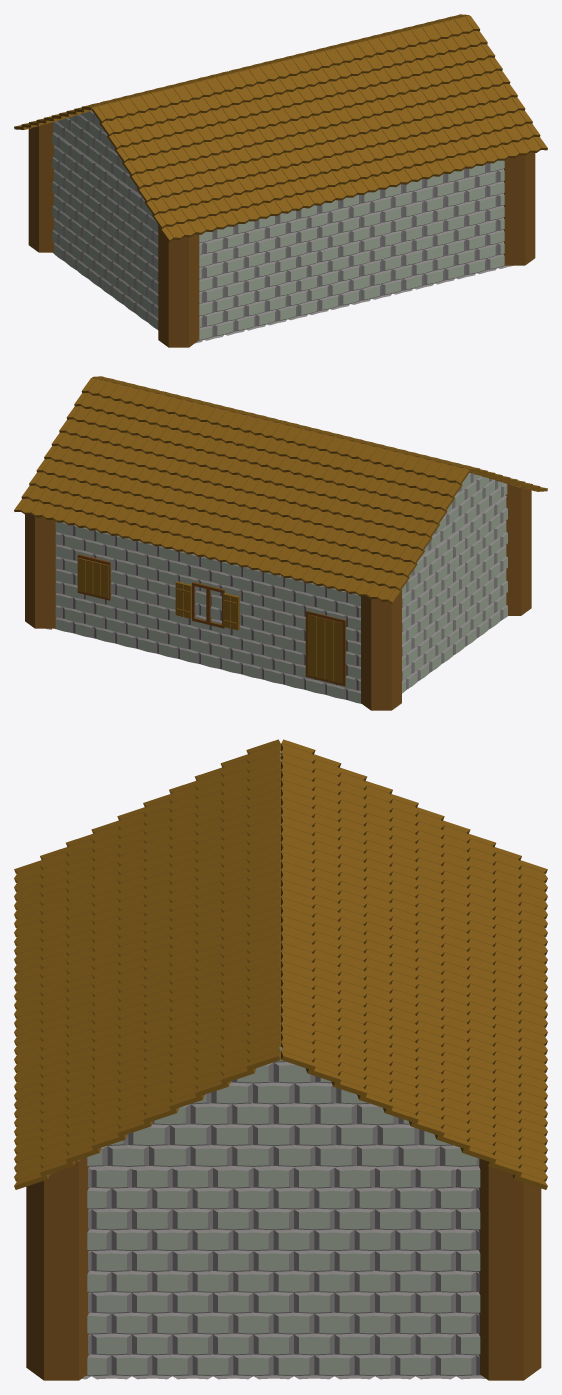
Rendered from Maison sans cheminée.fbx.
The picture shows the model from 3 angles, top to bottom: view 1: azimuth 30°, elevation 25°; view 2: azimuth 150°, elevation 25°; view 3: azimuth 270°, elevation 25°; orthographic projection. The views are drawn at different scales.
Parts seen in each view (by area): view 1: Maison modèle; view 2: Maison modèle; view 3: Maison modèle.
Boxes of the visible parts, x1,y1,x2,y2 form: Maison modèle: (14, 14, 547, 347); Maison modèle: (14, 376, 547, 710); Maison modèle: (14, 739, 547, 1380).
Size of the model in its own units: 4611 by 2263 by 3286.
